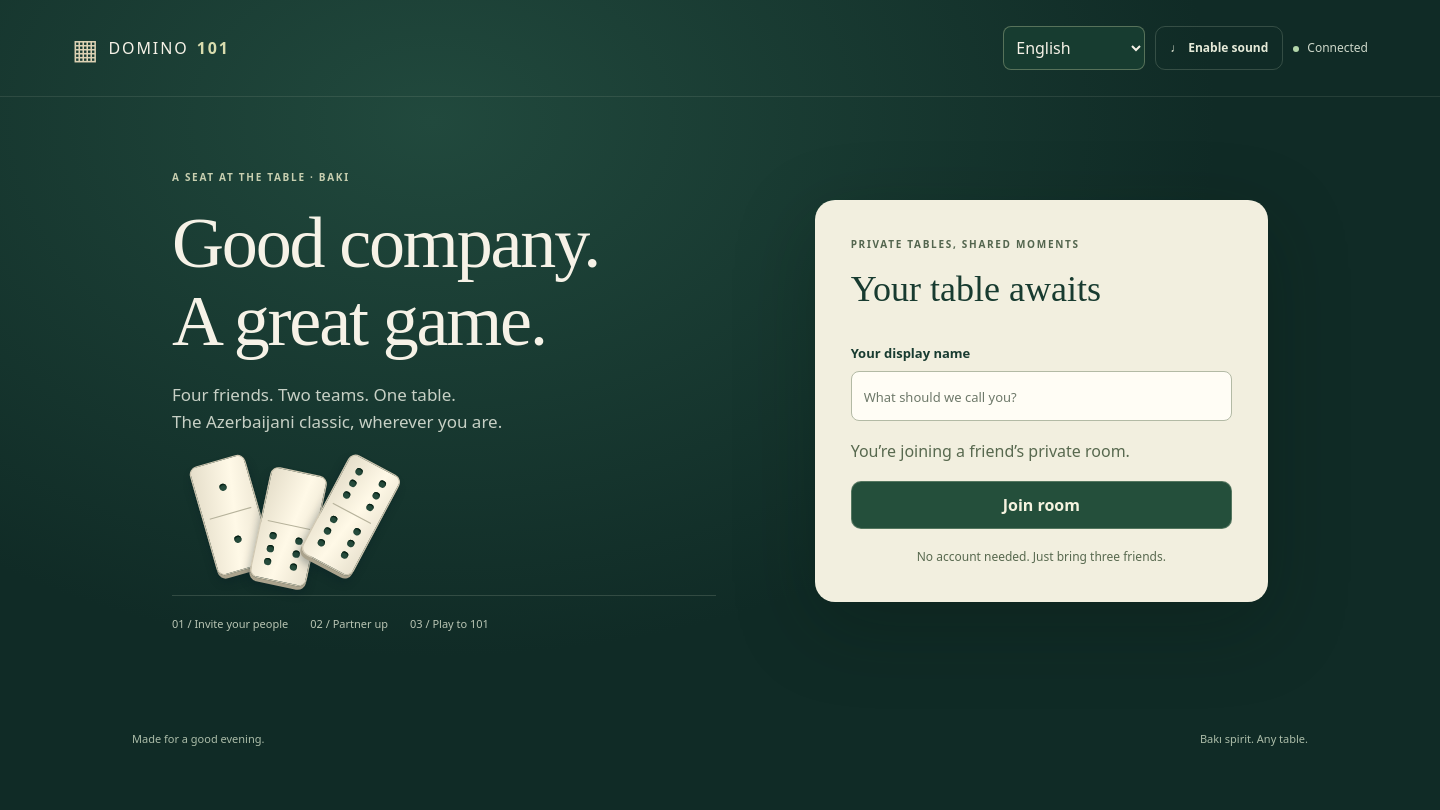
Test: entry and room routes › shareable URLs only ask for a name and show missing-room errors
Type "Guest" into the field labelled "Your display name" at (1041, 396), box 851,371 -> 1232,421
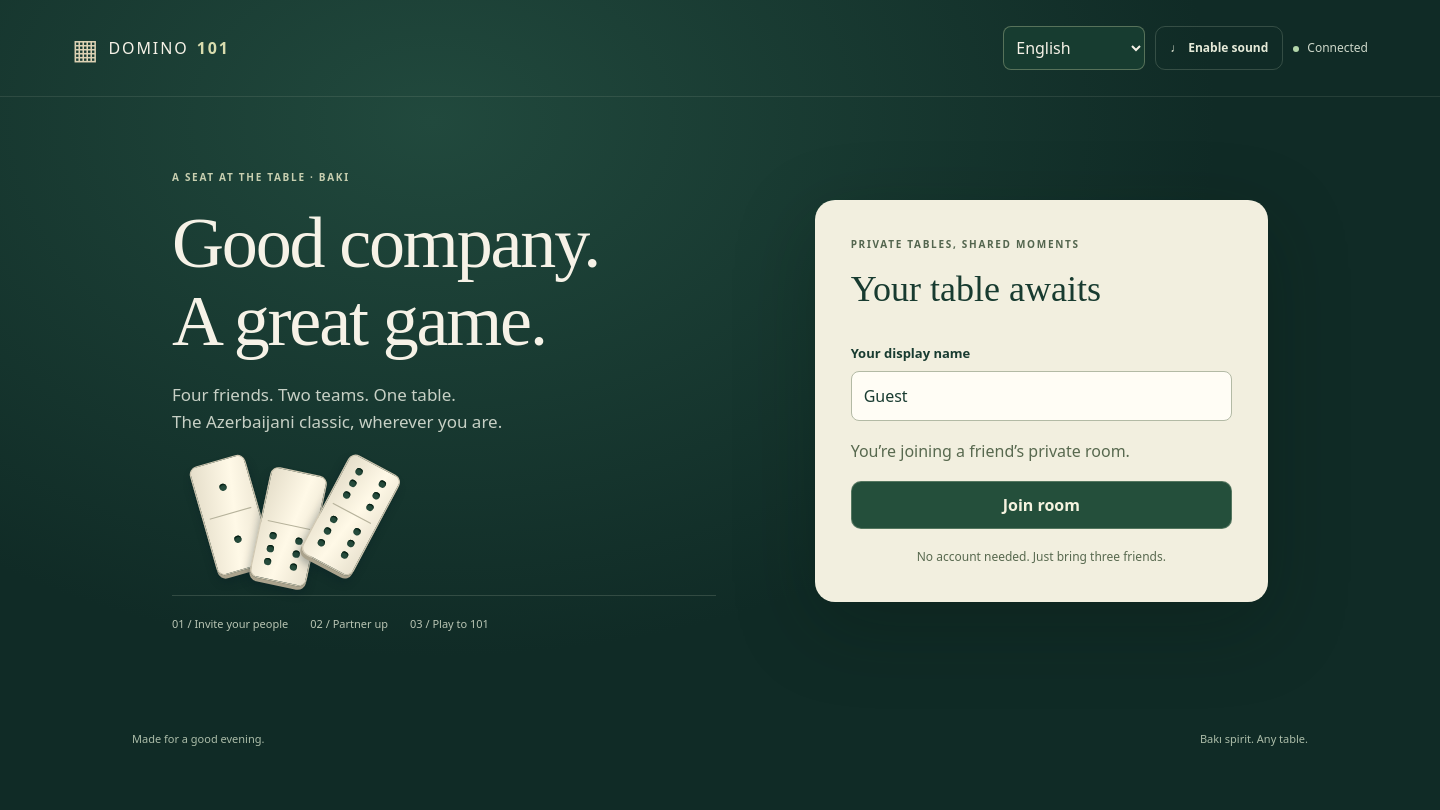
Click the button "Join room" at (1041, 505), box 851,481 -> 1232,529
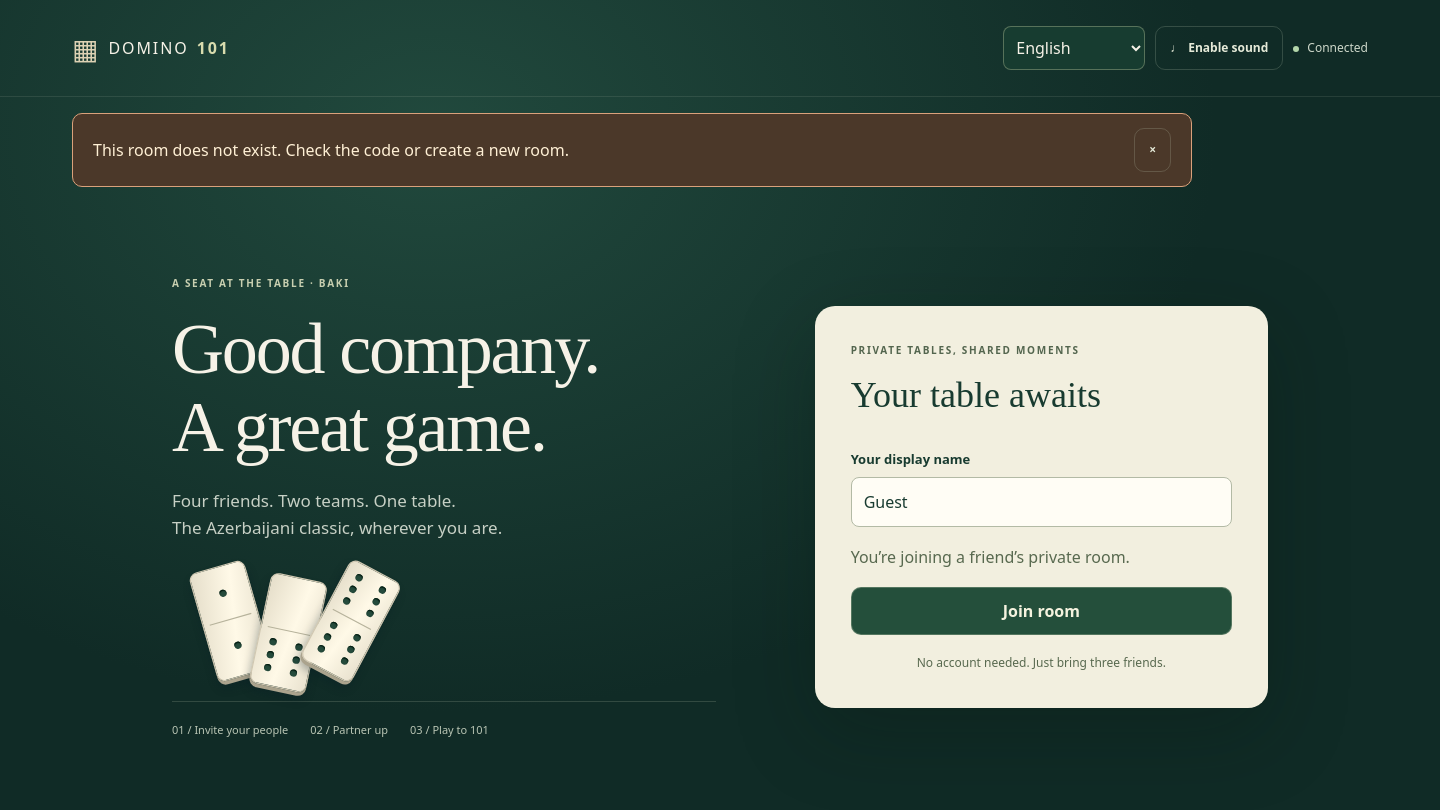
Expected: the message "This room does not exist. Check the code or create a new room. ×" is shown, 72,113 -> 1192,187
